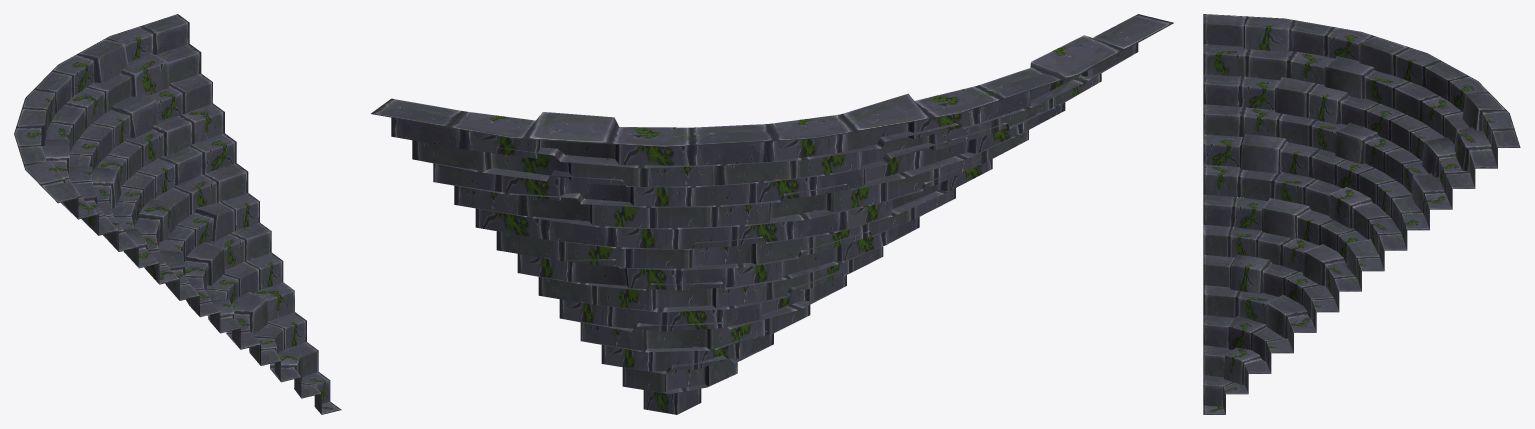
The model's file is MOD_Stairs_01_E_concave_1.fbx.
3 views of the same model, side by side, from view 1: azimuth 30°, elevation 25°; view 2: azimuth 150°, elevation 25°; view 3: azimuth 270°, elevation 25° (orthographic). The views are drawn at different scales.
Visible parts, largest first — view 1: MOD_Stairs_01_E_concave_1; view 2: MOD_Stairs_01_E_concave_1; view 3: MOD_Stairs_01_E_concave_1.
Part boxes in pixels (<box>): MOD_Stairs_01_E_concave_1: <box>14,14,341,414</box>; MOD_Stairs_01_E_concave_1: <box>371,14,1173,414</box>; MOD_Stairs_01_E_concave_1: <box>1203,14,1520,414</box>.
Size of what is drawn, in the model's own units: 400 by 376 by 400.
